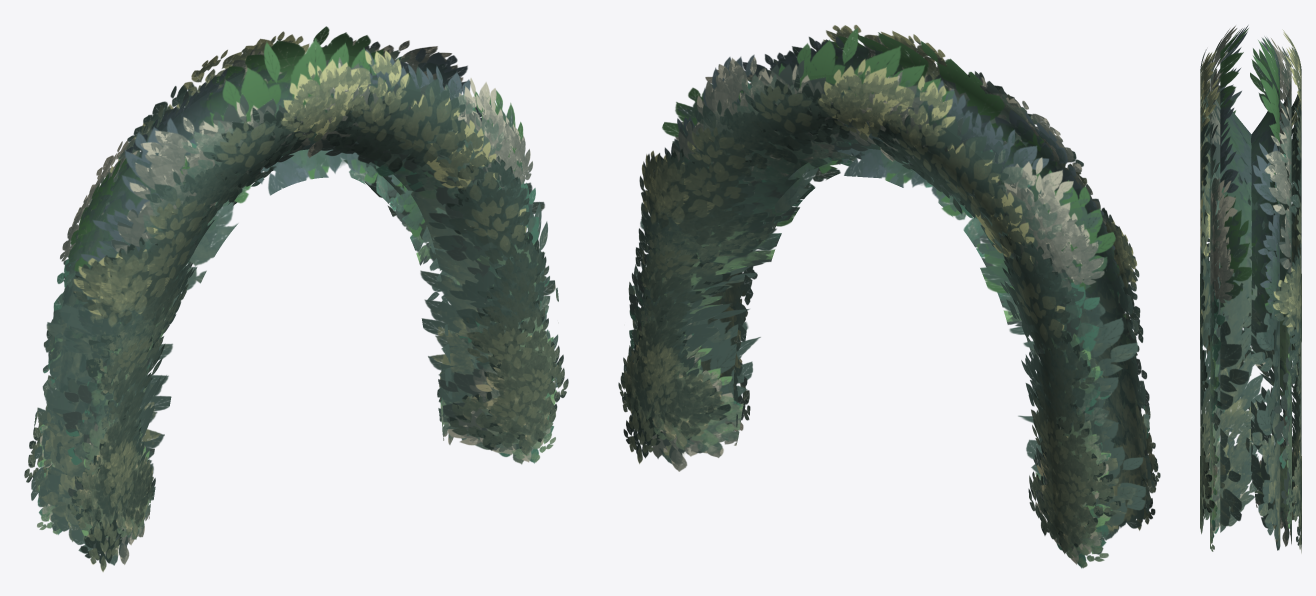
File: instal1.glb
3 renders of one model, left to right at view 1: azimuth 30°, elevation 25°; view 2: azimuth 150°, elevation 25°; view 3: azimuth 270°, elevation 25°, orthographic. The views are drawn at different scales.
Visible parts, largest first — view 1: Circle.002, Circle.001, Circle, Circle.003, Circle.004, Circle.005; view 2: Circle.005, Circle.004, Circle, Circle.003, Circle.001, Circle.002; view 3: Circle, Circle.003, Circle.001, Circle.004, Circle.005, Circle.002.
Part boxes in pixels (x1,y1,x2,y2): Circle.002: (67,50,568,571); Circle.001: (62,58,556,564); Circle: (37,38,561,565); Circle.003: (31,26,555,541); Circle.004: (37,37,467,534); Circle.005: (24,31,516,482); Circle.005: (618,59,1120,553); Circle.004: (629,56,1112,568); Circle: (629,32,1154,540); Circle.003: (623,27,1149,554); Circle.001: (675,35,1151,527); Circle.002: (738,25,1160,530); Circle: (1220,25,1266,532); Circle.003: (1238,36,1280,550); Circle.001: (1210,25,1247,551); Circle.004: (1246,38,1291,546); Circle.005: (1260,29,1301,553); Circle.002: (1200,49,1241,533).
Bounding box in the file's own units: 2 × 1.7 × 0.3641.
Materials: 3 (3 with a texture image).
